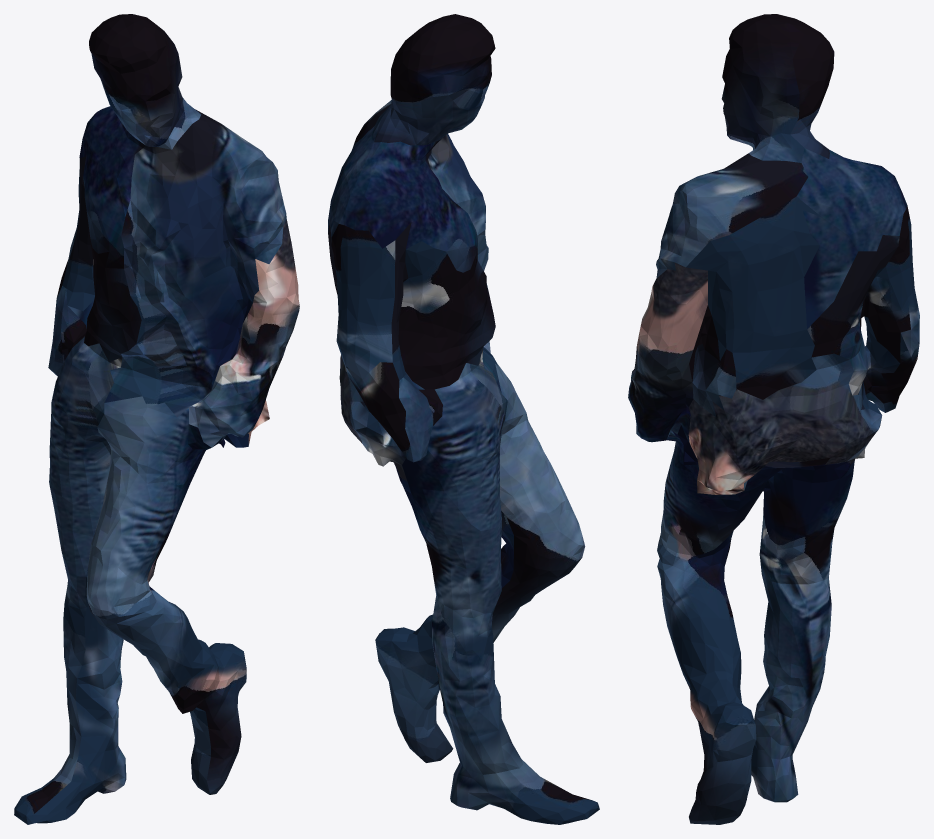
3 views of the same model, side by side, from view 1: azimuth 30°, elevation 25°; view 2: azimuth 150°, elevation 25°; view 3: azimuth 270°, elevation 25° (orthographic). The views are drawn at different scales.
Visible parts, largest first — view 1: q_1; view 2: q_1; view 3: q_1.
Boxes of the visible parts, x1,y1,x2,y2 form: q_1: (14, 14, 299, 824); q_1: (328, 14, 599, 824); q_1: (628, 14, 919, 824).
Bounding box in the file's own units: 0.581 × 1.76 × 0.5895.
1 material, 1 textured.
